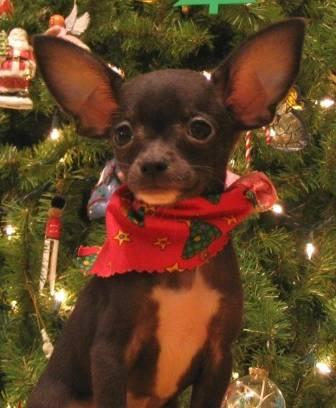dog: (27, 18, 305, 407)
